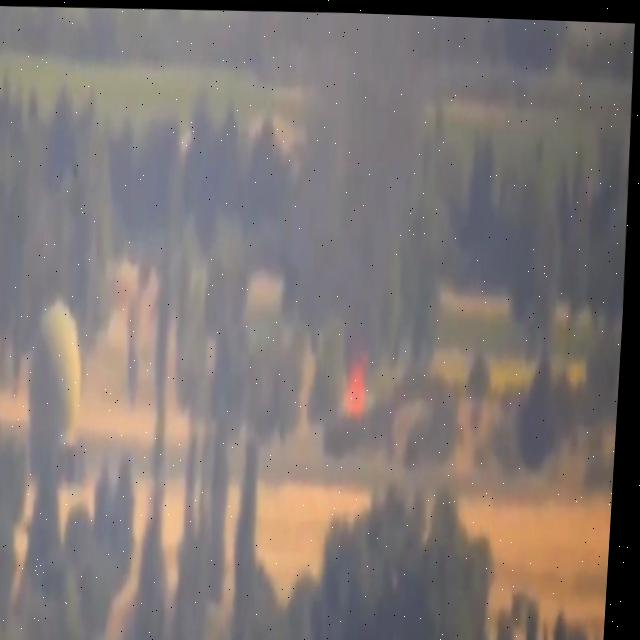smoke: (290, 10, 424, 355)
